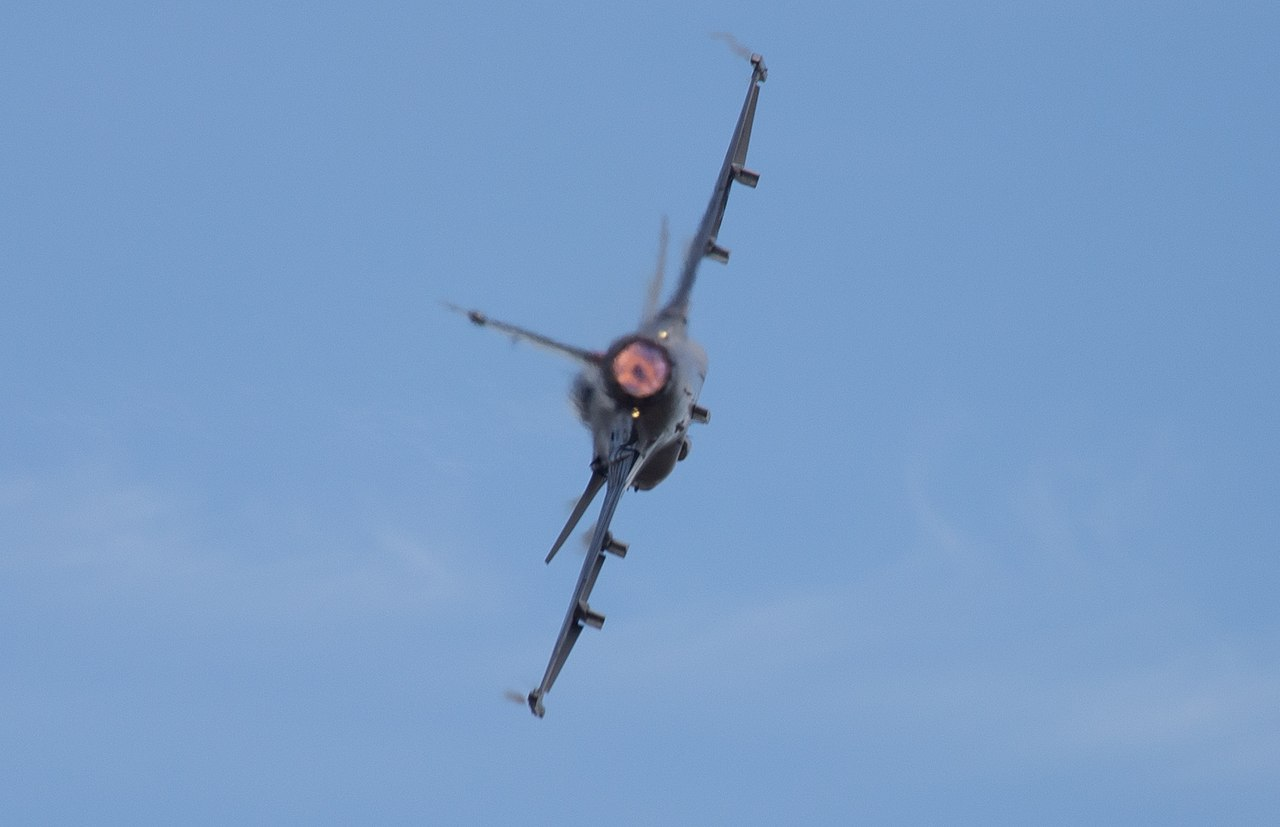JAS39: (440, 52, 769, 721)
